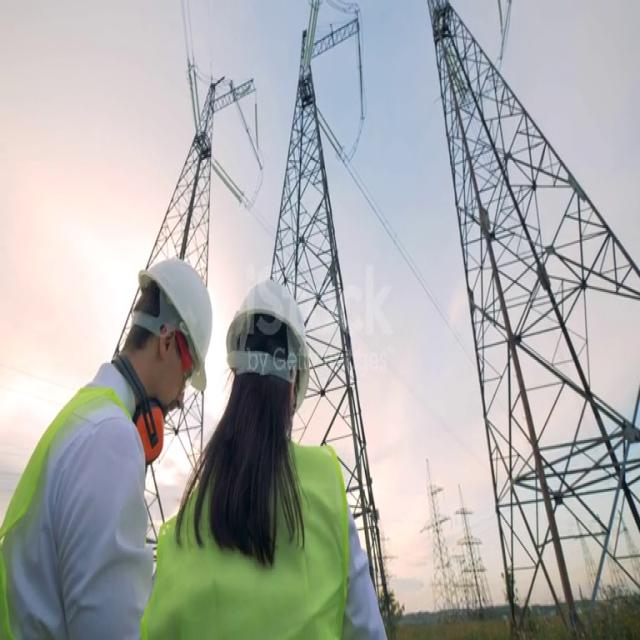capacete: (226, 262, 322, 413), (124, 242, 216, 391)
